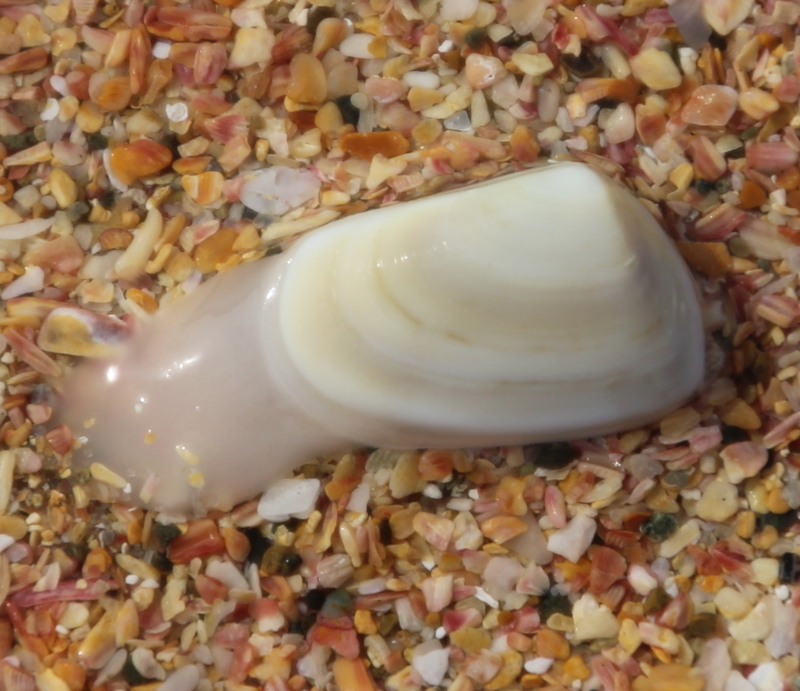tuatua: (264, 151, 715, 453)
